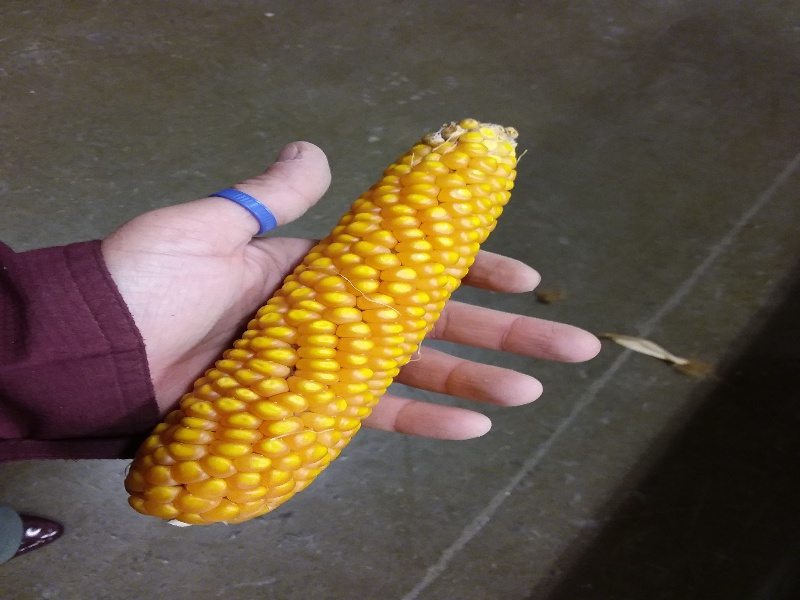band: (209, 185, 281, 236)
ear: (122, 115, 524, 529)
